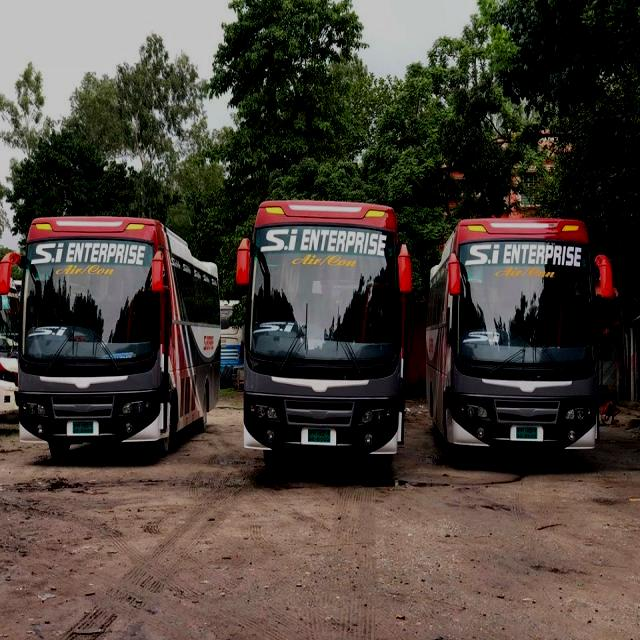bus: (1, 218, 222, 459), (236, 198, 413, 481), (426, 216, 614, 470)
